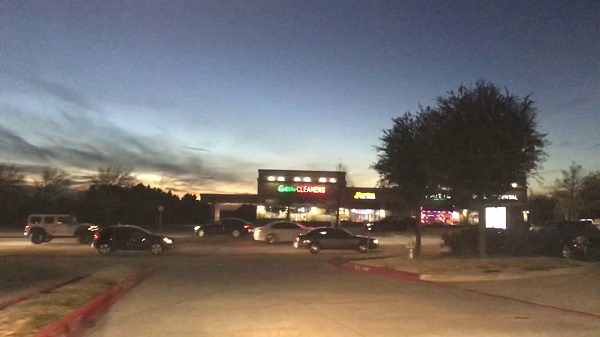car: (294, 227, 381, 254), (22, 212, 96, 242), (93, 228, 173, 255), (250, 221, 309, 245), (191, 218, 254, 239)
